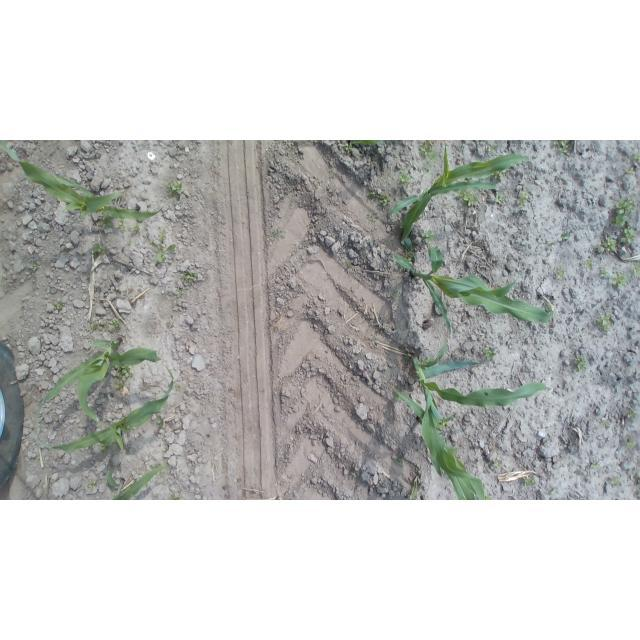Maize: (403, 338, 548, 481), (388, 143, 533, 265), (387, 245, 554, 340), (0, 141, 164, 220), (35, 364, 176, 452), (35, 340, 162, 429), (391, 386, 486, 500), (106, 466, 172, 500), (409, 476, 420, 500), (352, 141, 381, 147)
Weeds: (610, 196, 636, 224), (150, 240, 177, 264), (113, 366, 134, 393), (610, 269, 630, 293), (593, 238, 617, 255), (455, 191, 480, 207), (366, 190, 391, 206), (419, 140, 436, 161), (166, 179, 183, 197), (596, 313, 612, 332), (620, 226, 636, 245), (554, 140, 571, 156), (92, 242, 108, 258), (517, 189, 530, 208), (180, 270, 199, 283), (573, 355, 587, 372), (552, 266, 564, 283), (98, 217, 115, 229), (421, 231, 436, 244), (129, 221, 142, 235), (630, 262, 640, 280), (270, 229, 286, 240), (482, 348, 496, 360), (523, 477, 538, 488), (328, 169, 341, 180), (487, 146, 500, 157), (625, 438, 636, 451), (365, 212, 379, 222), (398, 173, 412, 183), (600, 266, 611, 278), (118, 220, 128, 233), (157, 229, 168, 240), (557, 234, 572, 242), (54, 299, 64, 311), (583, 257, 593, 268), (611, 475, 622, 485), (631, 151, 640, 163), (590, 461, 602, 470), (495, 192, 505, 202), (350, 468, 360, 478), (88, 481, 97, 492), (492, 458, 501, 469), (31, 259, 39, 270), (176, 287, 184, 298), (628, 411, 637, 420), (437, 421, 447, 429), (370, 330, 378, 340), (396, 456, 404, 466), (492, 173, 505, 179), (624, 167, 635, 174), (345, 142, 353, 151), (344, 258, 352, 267), (113, 319, 122, 327), (59, 245, 69, 252), (171, 493, 181, 500), (175, 383, 183, 391), (100, 444, 108, 452), (157, 418, 164, 427), (600, 419, 609, 426), (91, 320, 98, 328), (99, 321, 106, 329), (361, 249, 368, 257), (405, 253, 412, 261), (420, 357, 429, 363), (485, 494, 494, 500), (149, 464, 159, 469), (163, 446, 170, 453), (394, 289, 399, 298), (548, 242, 555, 248), (423, 167, 429, 173), (128, 240, 133, 247), (633, 469, 638, 474), (637, 490, 640, 498), (551, 490, 556, 494), (372, 236, 376, 240), (638, 479, 640, 484)
